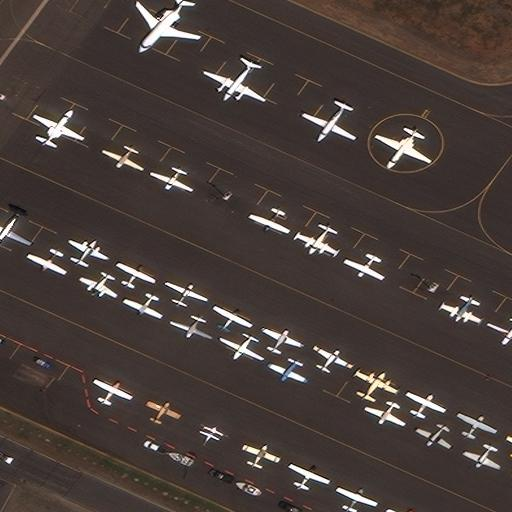Medium Civil Transport: (135, 0, 198, 52), (202, 61, 263, 102), (374, 129, 428, 168), (300, 103, 354, 141), (0, 209, 30, 247)
Small Civil Transport: (34, 110, 84, 145), (357, 369, 398, 400), (295, 224, 335, 255), (165, 280, 208, 307), (290, 463, 331, 490), (262, 327, 304, 353), (440, 297, 480, 324), (218, 336, 261, 361), (338, 486, 379, 512), (70, 239, 110, 265), (247, 208, 287, 234), (342, 255, 382, 281), (407, 391, 445, 418), (25, 249, 64, 275), (214, 305, 253, 331), (95, 378, 133, 404), (314, 345, 353, 370), (363, 402, 402, 427), (458, 412, 497, 437), (118, 261, 155, 287), (150, 168, 190, 192), (122, 294, 160, 319), (461, 445, 499, 470), (101, 148, 142, 171), (169, 317, 211, 339), (77, 274, 115, 298), (243, 444, 281, 467), (267, 360, 305, 383), (414, 425, 449, 449), (148, 400, 181, 422), (486, 322, 512, 346)
